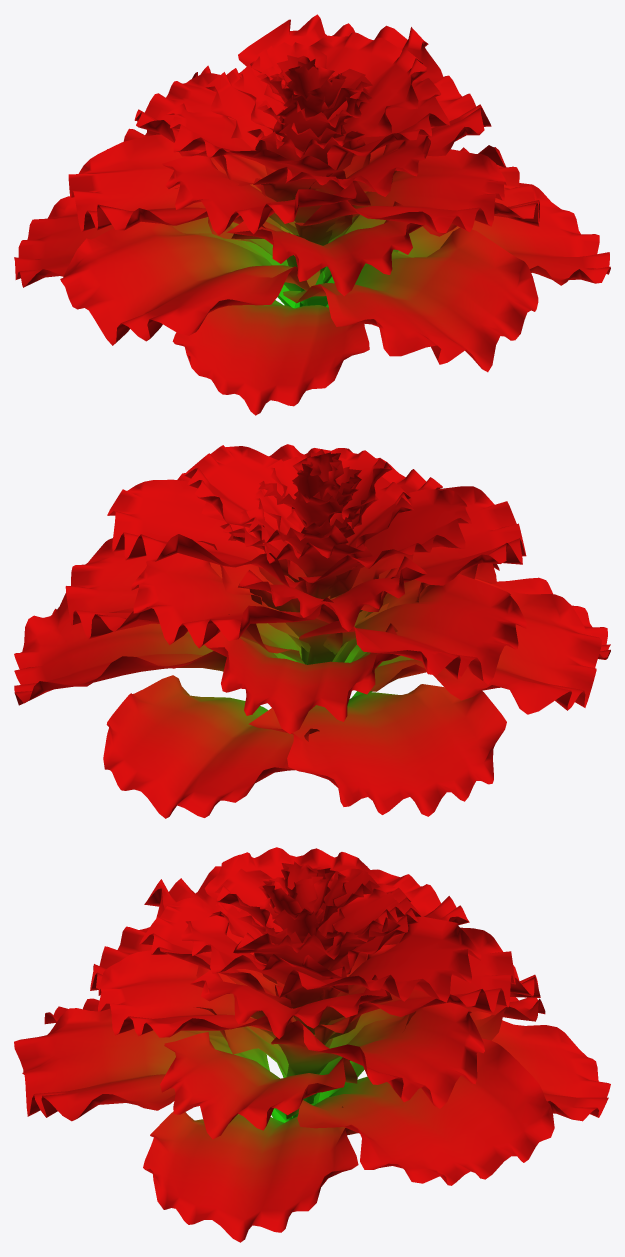
File: White Ornamental Kale_LOD0_Var8_ue3ldcgja.fbx
3 views of the same model, one above another, from view 1: azimuth 30°, elevation 25°; view 2: azimuth 150°, elevation 25°; view 3: azimuth 270°, elevation 25° (orthographic). The views are drawn at different scales.
Parts seen in each view (by area): view 1: _63ad_Var8_LOD0; view 2: _63ad_Var8_LOD0; view 3: _63ad_Var8_LOD0.
Part boxes in pixels (x1,y1,x2,y2): _63ad_Var8_LOD0: [14, 14, 610, 415]; _63ad_Var8_LOD0: [14, 444, 610, 818]; _63ad_Var8_LOD0: [14, 847, 610, 1242].
Bounding box in the file's own units: 80.89 × 43.41 × 80.52.
